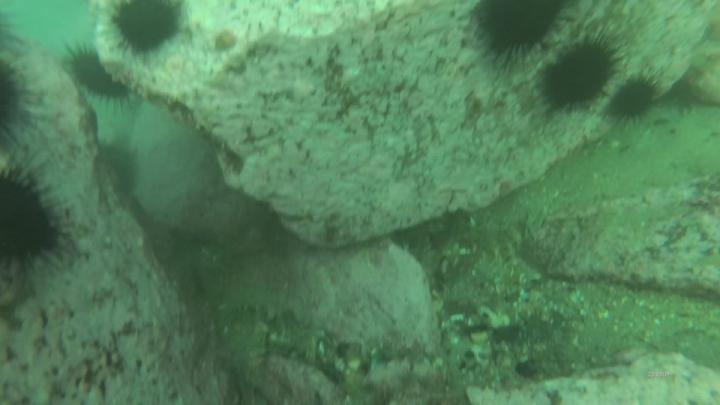echinus: (1, 161, 86, 277), (536, 35, 626, 118), (469, 2, 583, 66), (55, 40, 146, 116), (106, 2, 192, 63), (1, 59, 51, 154), (604, 69, 666, 132)
